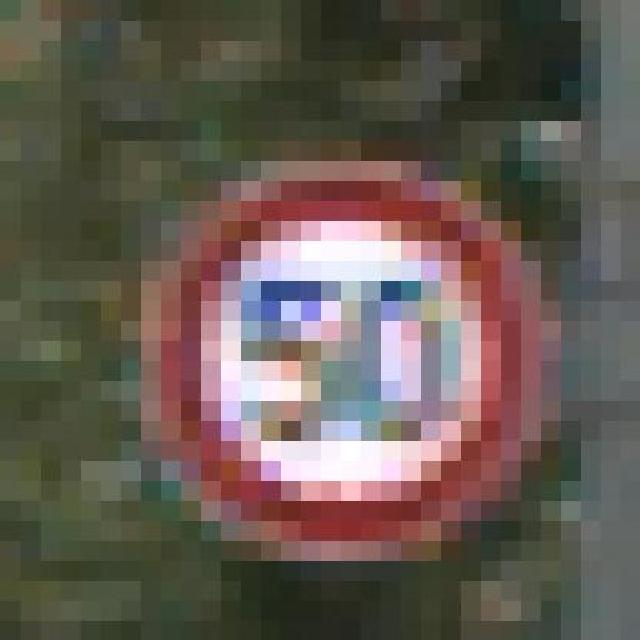forb_speed_over_50: (175, 159, 533, 550)
